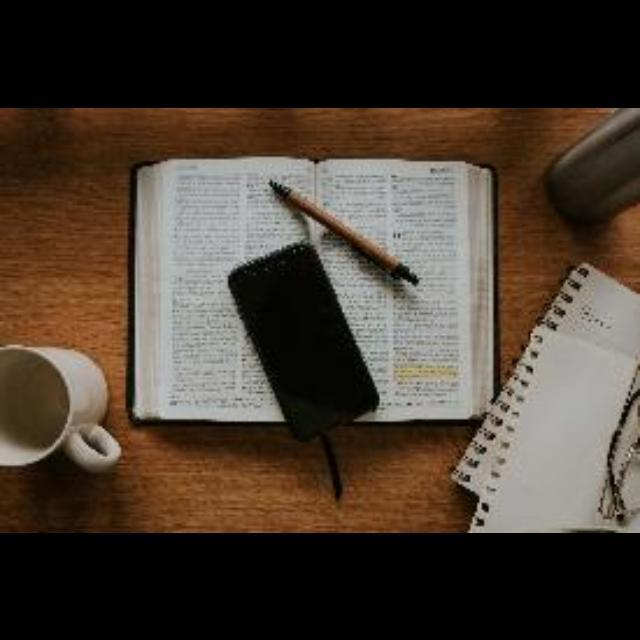PhoneUse: (233, 243, 381, 445)
